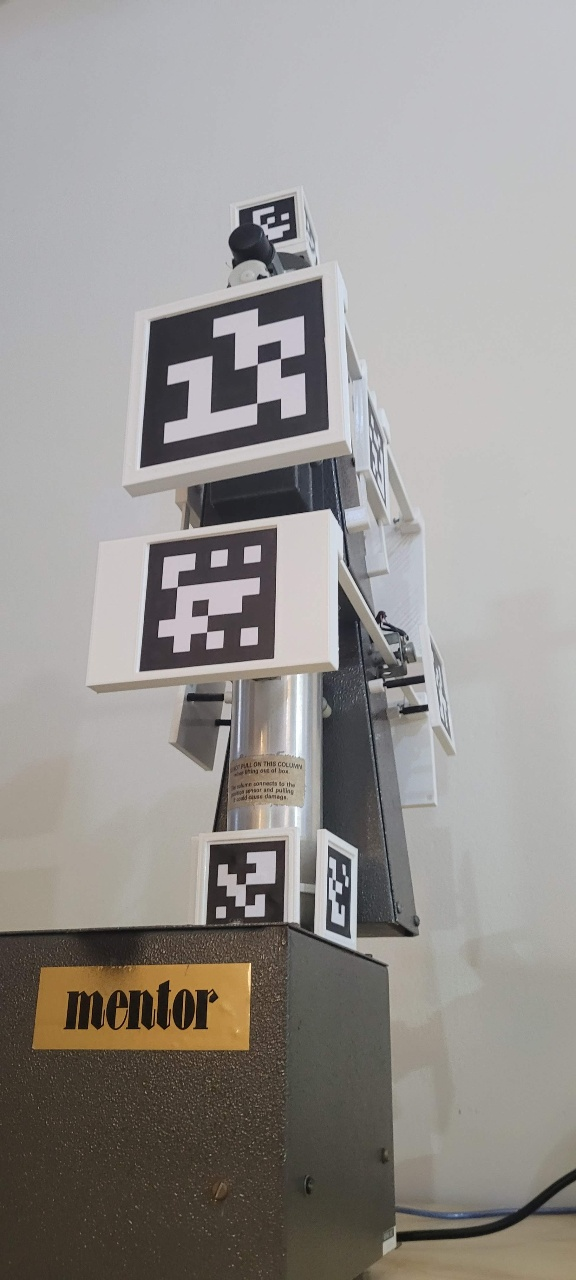Robot: (82, 182, 461, 946)
